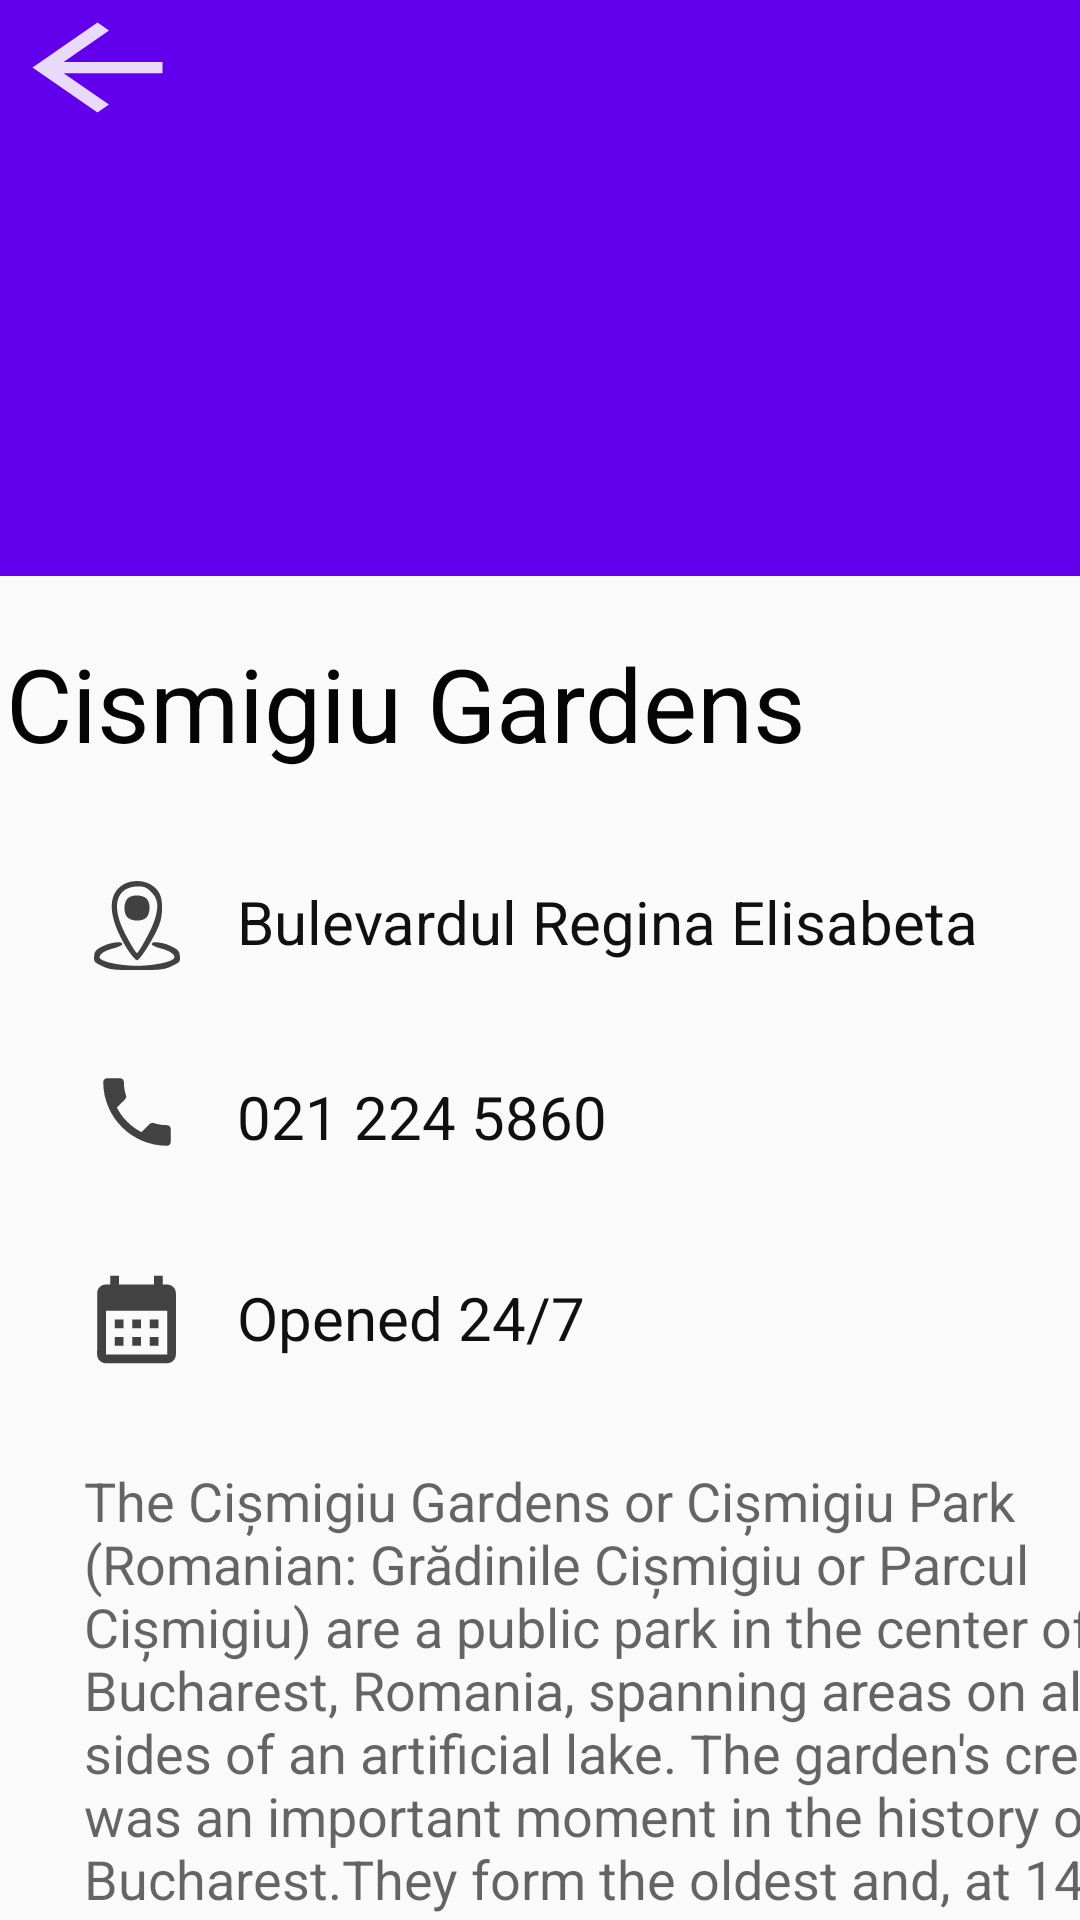

Icon bounding boxes for this 1080*1920 phone screenshot, format (x1, y1, x2, y2):
arrow back: (32, 22, 163, 113)
calendar month: (97, 1275, 176, 1364)
local phone: (103, 1078, 171, 1146)
place marker: (94, 881, 180, 970)
